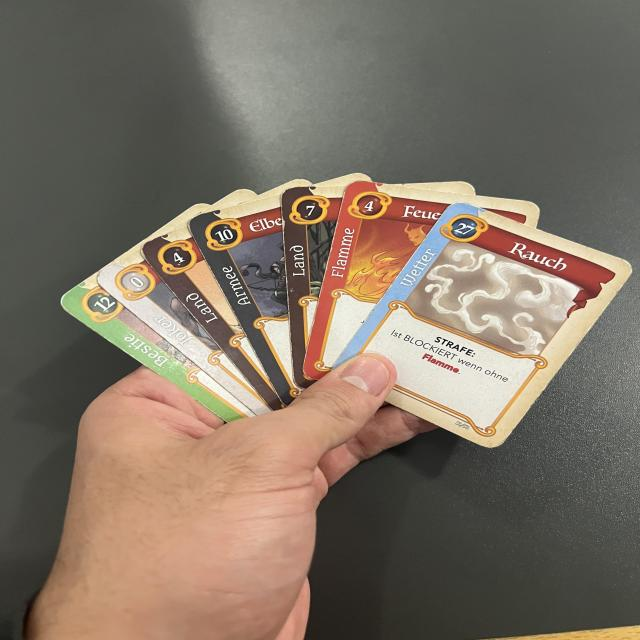Doppelganger: (91, 250, 272, 415)
Earth Elemental: (136, 227, 285, 412)
Elven Archers: (182, 194, 294, 408)
Fire Elemental: (301, 179, 458, 381)
Forest: (281, 186, 345, 386)
Hydra: (53, 276, 257, 423)
Smoke: (331, 200, 637, 453)
